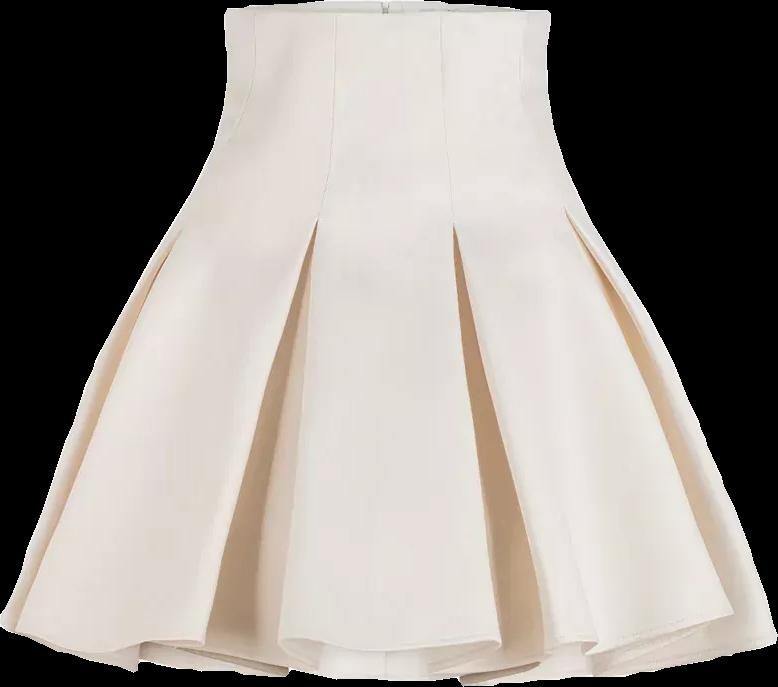Hemline: (224, 6, 549, 22)
Waistline: (0, 612, 777, 676)
